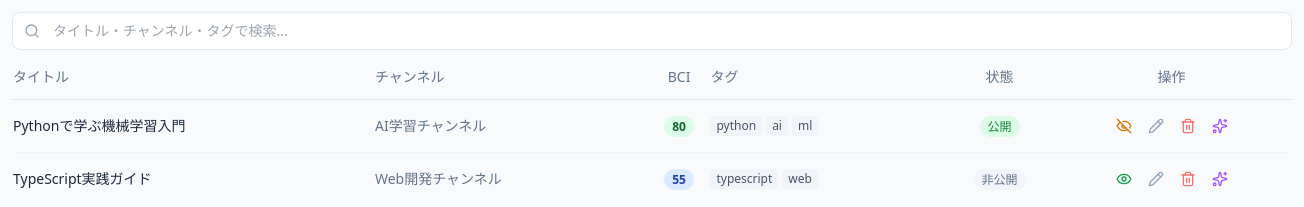
Scenario: VideoTable › 検索フィルタリング › チャンネルで絞り込みができる
This screenshot has width=1304, height=207.
Type "Web開発" into the field labelled "タイトル・チャンネル・タグで検索". click: [652, 31]
box: x1=12 y1=12 x2=1292 y2=50
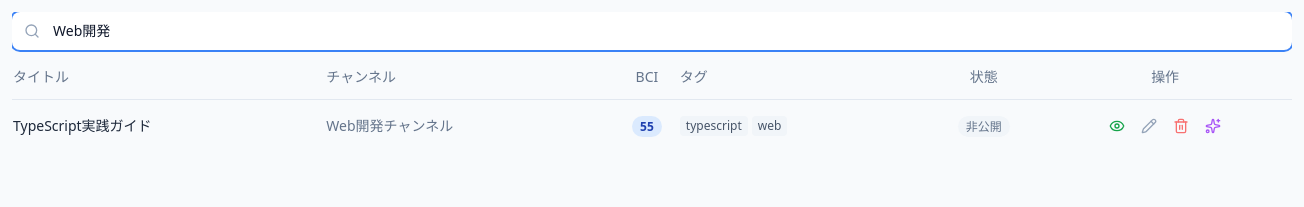
Check: the text "TypeScript実践ガイド" is shown, box x1=13 y1=116 x2=152 y2=135
Check: the text "Pythonで学ぶ機械学習入門" is gone
